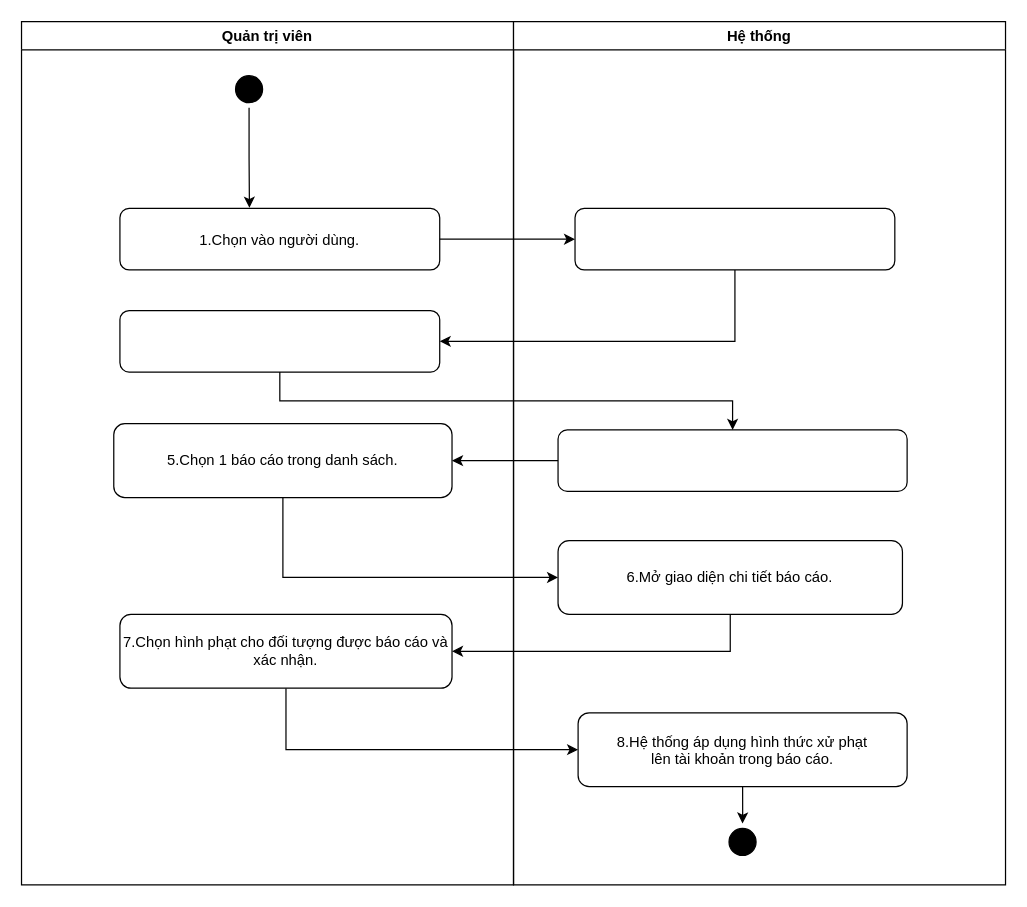
This 1027x907 diagram has some shape labels left out. Each missing label, with the centre of its shape:
2.Đưa ra giao diện người dùng với chức năng của quản trị viên: the point at 734,238
3.Chọn báo cáo trong giao diện quản trị viên.: the point at 279,340
4.Hệ thống mở giao diện Danh sách báo cáo.: the point at 732,460
